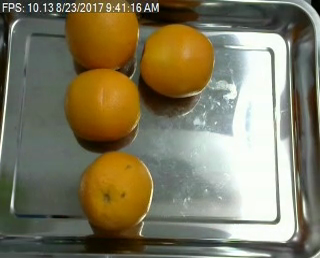Orange: (80, 150, 154, 230), (141, 23, 215, 97), (65, 69, 140, 141), (63, 1, 138, 72)
